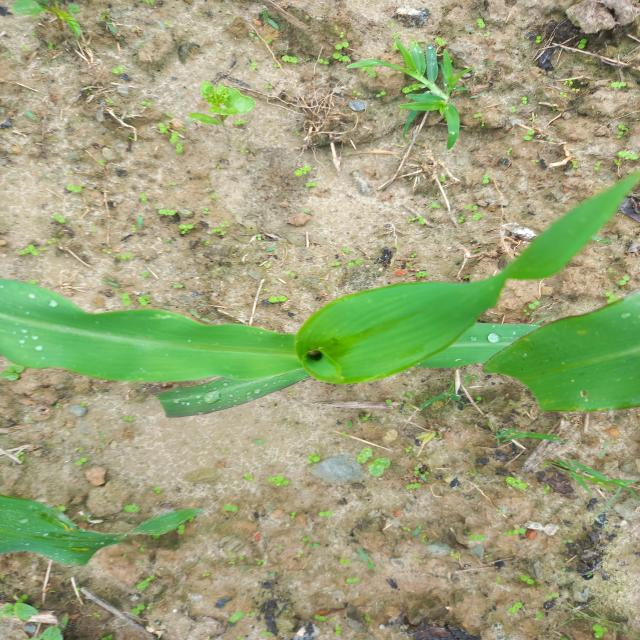maize: (0, 239, 640, 435), (0, 477, 245, 562)
weed: (267, 453, 640, 640), (0, 481, 229, 568), (325, 46, 506, 136), (0, 1, 112, 58), (180, 84, 266, 150)
